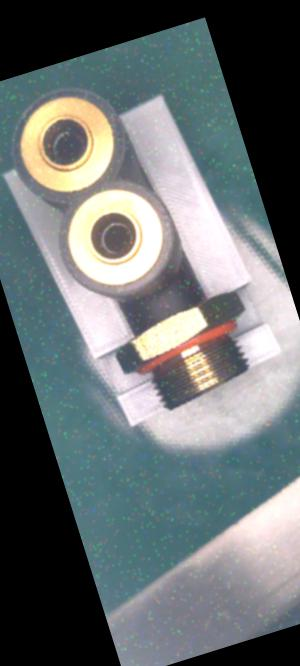craze: (157, 303, 178, 321)
